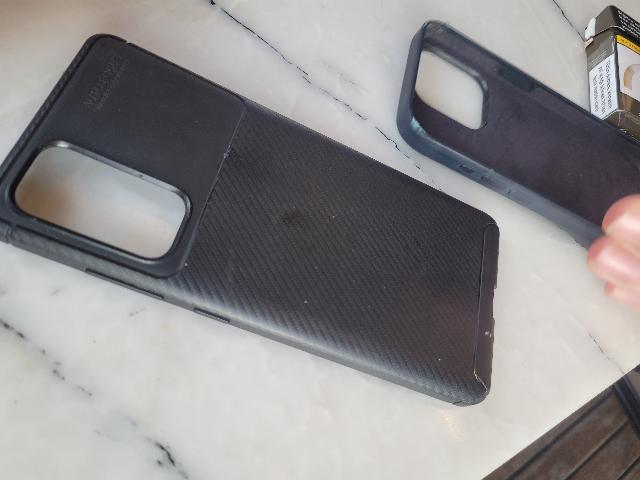Kagit: (577, 3, 640, 147)
Plastik: (0, 29, 503, 419), (394, 16, 640, 240)
